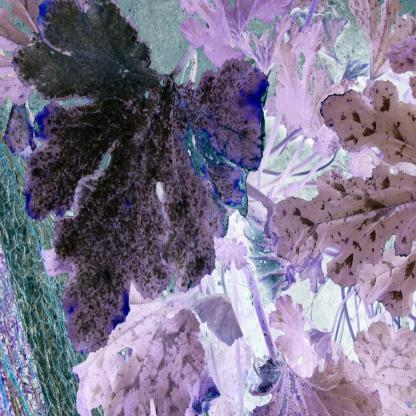squash powdery mildew leaf: (6, 0, 271, 354)
